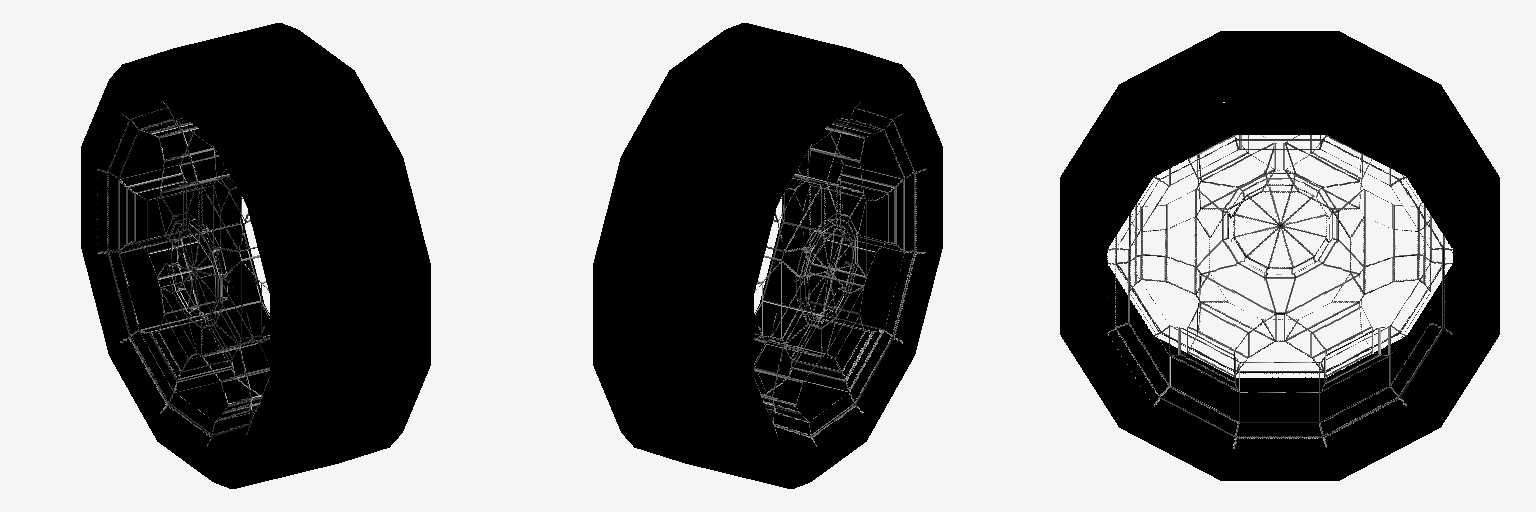
3 views of the same model, side by side, from view 1: azimuth 30°, elevation 25°; view 2: azimuth 150°, elevation 25°; view 3: azimuth 270°, elevation 25° (orthographic).
Parts seen in each view (by area): view 1: rueda; view 2: rueda; view 3: rueda.
Part boxes in pixels (left/top/right/bottom): rueda: left=81, top=23, right=430, bottom=488; rueda: left=593, top=23, right=942, bottom=488; rueda: left=1060, top=31, right=1499, bottom=480.
Bounding box in the file's own units: 0.747 × 1.95 × 1.95.
Materials: 3 (1 with a texture image).